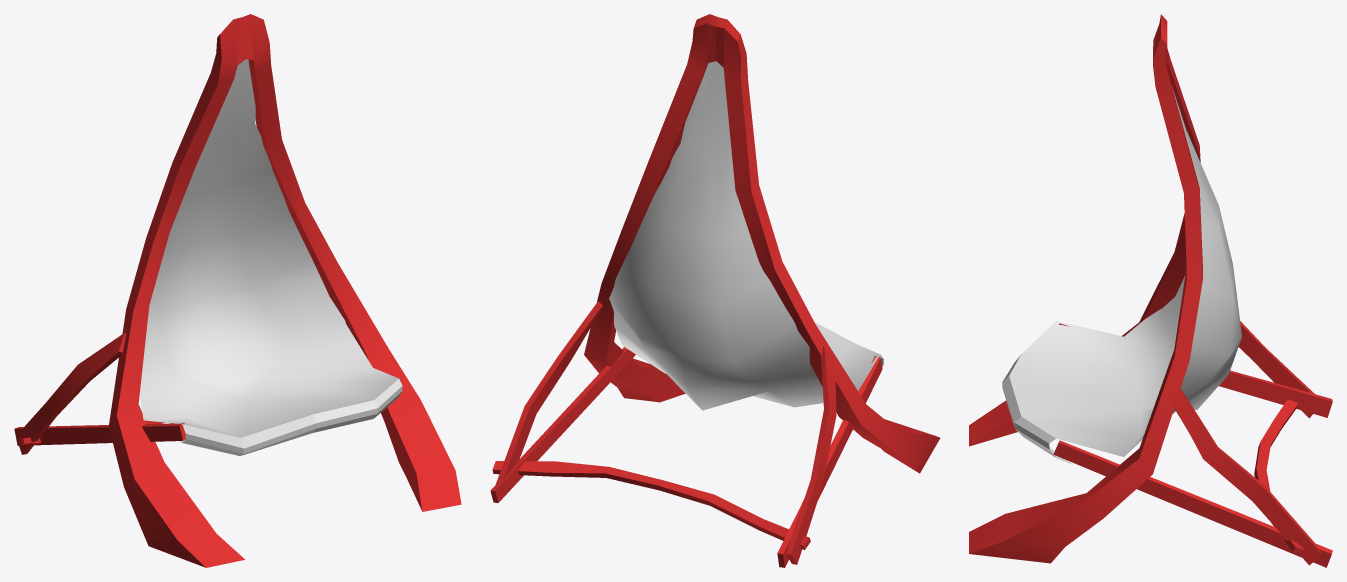
The model's file is SM_Chair.fbx.
3 views of the same model, side by side, from view 1: azimuth 30°, elevation 25°; view 2: azimuth 150°, elevation 25°; view 3: azimuth 270°, elevation 25° (orthographic). The views are drawn at different scales.
Parts seen in each view (by area): view 1: E_Chair_004, E_Chair_000, E_Chair_005, E_Chair_003; view 2: E_Chair_004, E_Chair_000, E_Chair_005, E_Chair_003, E_Chair_002; view 3: E_Chair_004, E_Chair_000, E_Chair_003, E_Chair_005, E_Chair_002.
Boxes of the visible parts, bbox=[...] form: E_Chair_004: bbox=[139, 59, 402, 455]; E_Chair_000: bbox=[108, 14, 461, 567]; E_Chair_005: bbox=[16, 333, 125, 454]; E_Chair_003: bbox=[14, 379, 402, 445]; E_Chair_004: bbox=[609, 61, 883, 410]; E_Chair_000: bbox=[584, 14, 940, 473]; E_Chair_005: bbox=[495, 301, 836, 564]; E_Chair_003: bbox=[490, 347, 882, 567]; E_Chair_002: bbox=[492, 461, 810, 549]; E_Chair_004: bbox=[1002, 86, 1241, 464]; E_Chair_000: bbox=[969, 14, 1202, 563]; E_Chair_003: bbox=[1053, 323, 1332, 567]; E_Chair_005: bbox=[1169, 321, 1321, 565]; E_Chair_002: bbox=[1254, 399, 1304, 555].
Size of the model in its own units: 1.17 by 1.65 by 1.14.
